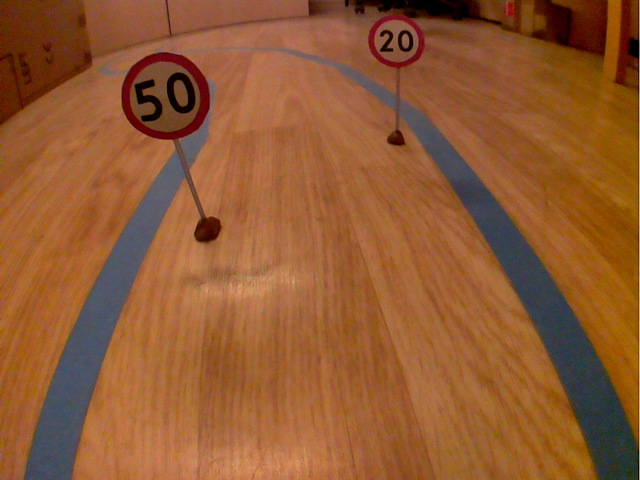Ograniczenie 20: (364, 13, 428, 72)
Ograniczenie 50: (118, 50, 213, 143)
